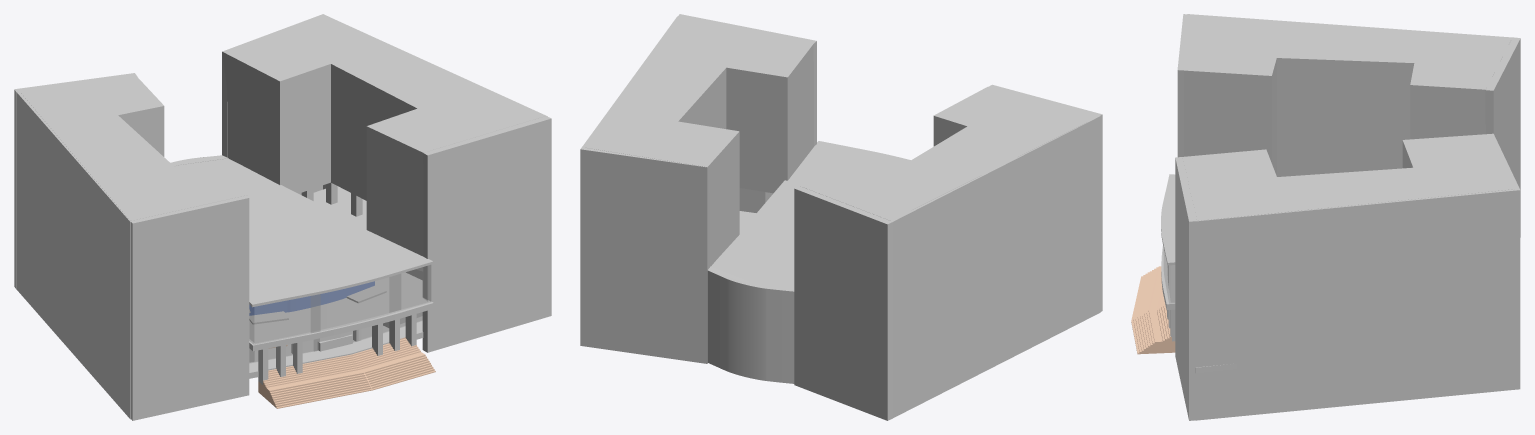
Rendered from academia-sinica.glb.
3 views of the same model, side by side, from view 1: azimuth 30°, elevation 25°; view 2: azimuth 150°, elevation 25°; view 3: azimuth 270°, elevation 25° (orthographic).
Visible parts, largest first — view 1: building_R_main, building_R_front_wall, building_R_front_wall.001, building_R_right_wall.001, building_R_main.001, top_ceiling, front_4f_glass, 4f_base_base, stairs_1f, 1f_base, room_R0, building_R_back_wall.001 (+2 smaller); view 2: building_R_right_wall.001, building_R_main, building_R_back_wall, building_R_back_wall.001, building_R_main.001, back_wall, top_ceiling, building_R_front_wall.001, building_R_front_wall, elevator_shaft_R; view 3: building_R_right_wall, building_R_main.001, building_R_main, building_R_front_wall, building_R_back_wall.001, stairs_1f, building_R_back_wall, top_ceiling, building_R_front_wall.001, 4f_base_base, building_R_right_wall.001, front_4f_glass.
Boxes of the visible parts, x1,y1,x2,y2 form: building_R_main: [222, 16, 545, 271]; building_R_front_wall: [422, 116, 551, 352]; building_R_front_wall.001: [130, 195, 249, 420]; building_R_right_wall.001: [17, 92, 130, 419]; building_R_main.001: [20, 76, 250, 312]; top_ceiling: [174, 158, 433, 307]; front_4f_glass: [249, 265, 430, 344]; 4f_base_base: [249, 184, 433, 351]; stairs_1f: [258, 337, 435, 408]; 1f_base: [249, 316, 423, 378]; room_R0: [249, 281, 374, 315]; building_R_back_wall.001: [14, 73, 137, 289]; building_R_right_wall.001: [891, 116, 1100, 417]; building_R_main: [585, 17, 813, 266]; building_R_back_wall: [580, 146, 709, 363]; building_R_back_wall.001: [794, 186, 893, 420]; building_R_main.001: [800, 86, 1098, 220]; back_wall: [707, 266, 794, 383]; top_ceiling: [711, 141, 910, 287]; building_R_front_wall.001: [989, 84, 1102, 311]; building_R_front_wall: [677, 14, 816, 146]; elevator_shaft_R: [739, 188, 773, 212]; building_R_right_wall: [1195, 189, 1512, 420]; building_R_main.001: [1184, 14, 1511, 176]; building_R_main: [1182, 133, 1514, 220]; building_R_front_wall: [1175, 157, 1196, 420]; building_R_back_wall.001: [1485, 37, 1520, 237]; stairs_1f: [1131, 266, 1175, 354]; building_R_back_wall: [1493, 134, 1520, 389]; top_ceiling: [1161, 174, 1175, 265]; building_R_front_wall.001: [1177, 14, 1189, 157]; 4f_base_base: [1161, 245, 1237, 373]; building_R_right_wall.001: [1187, 14, 1512, 38]; front_4f_glass: [1164, 251, 1174, 303].
Size of the model in its own units: 116 by 52.8 by 92.15.
